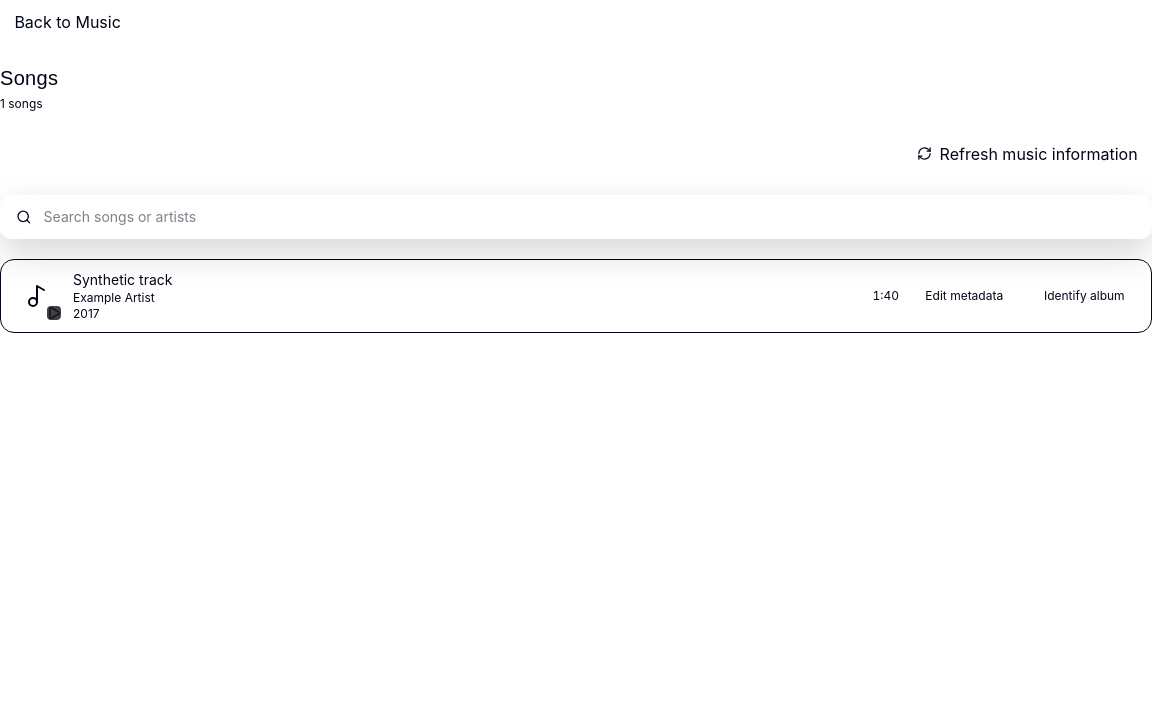
Test: root Music search displays candidates, keeps explicit review and blocks unsafe root approval
Click the button "Identify album": (1084, 296) [1030, 274, 1139, 318]
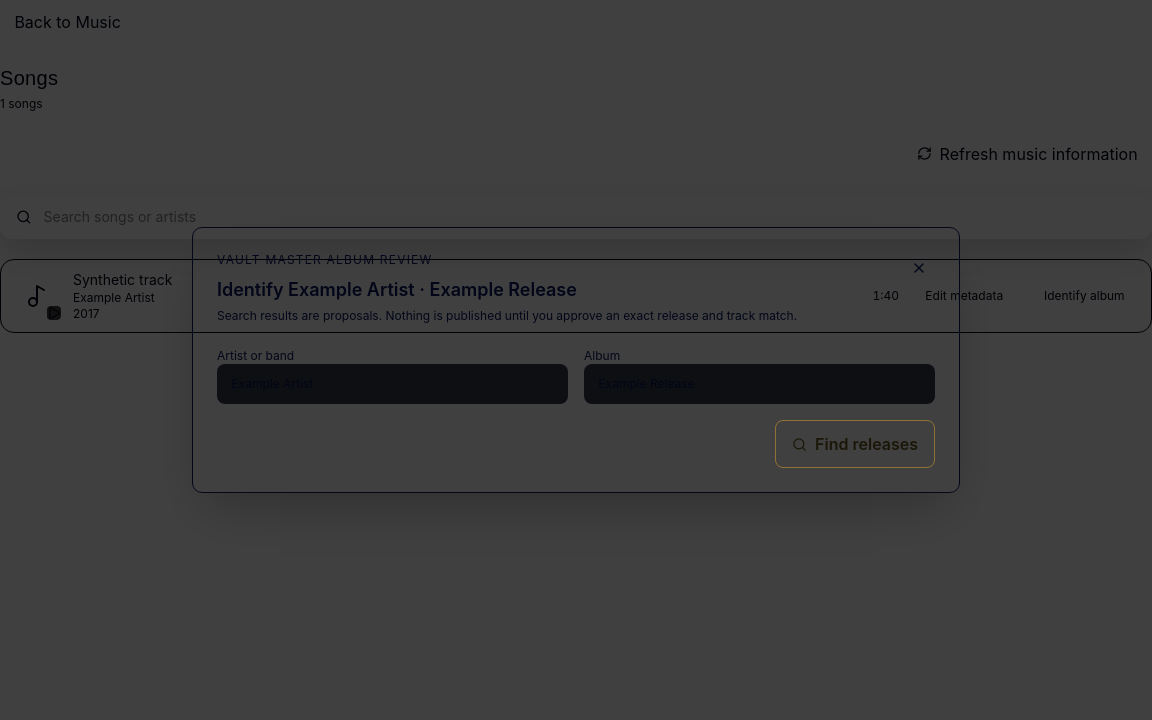
Check: the button "Find releases" is shown
Click the button "Find releases": (855, 444) [775, 420, 935, 468]
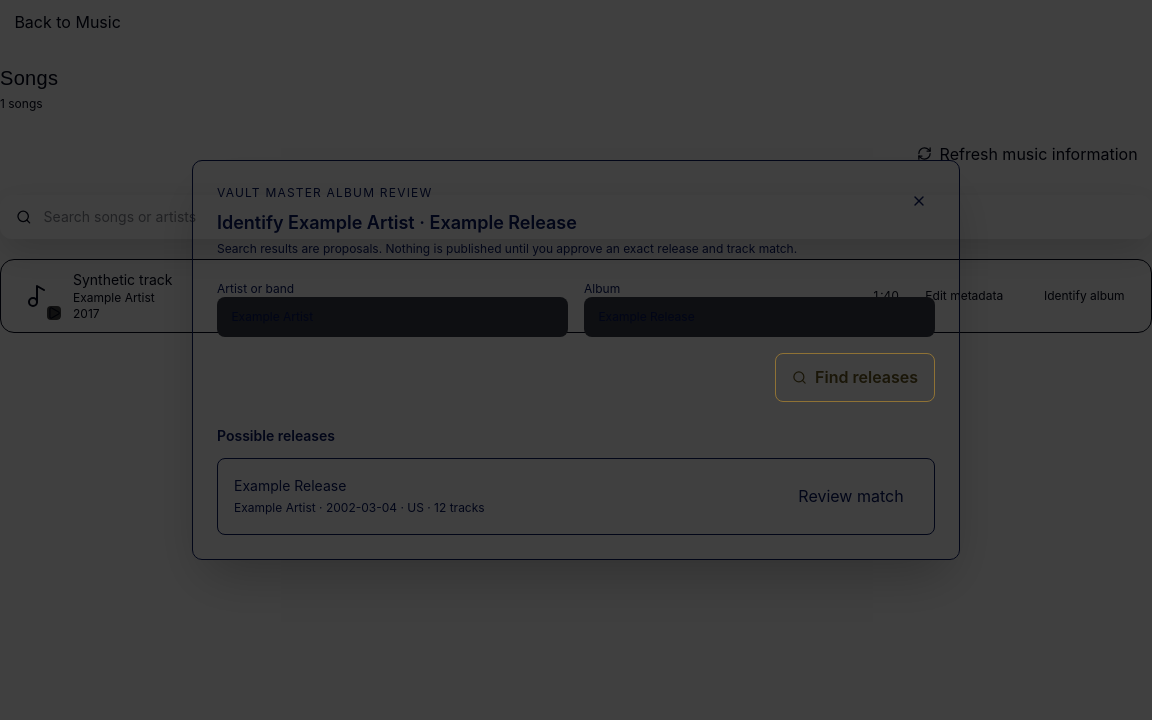
Check: the text "Possible releases" is shown, box [217, 427, 335, 444]
Check: the text "12 tracks" is shown, box [234, 500, 485, 516]
Check: the button "Review match" is shown
Click the button "Review match": (851, 496) [784, 475, 918, 518]
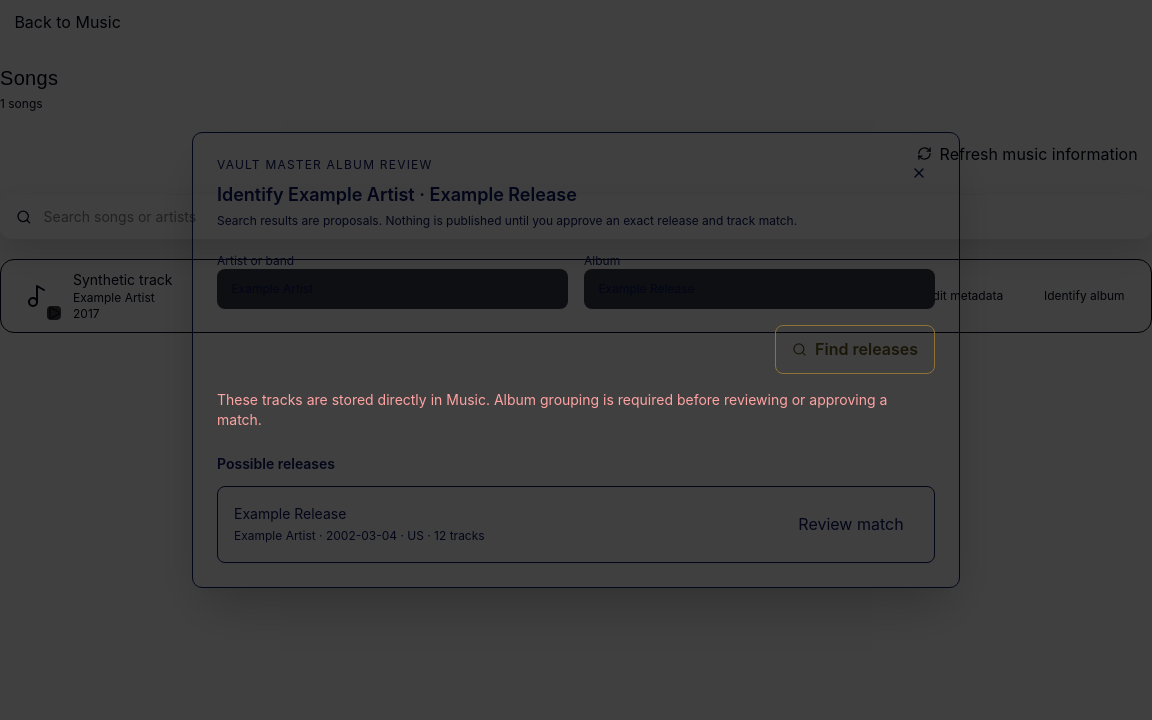
Check: the text "Album grouping is required" is shown, box [217, 391, 887, 428]
